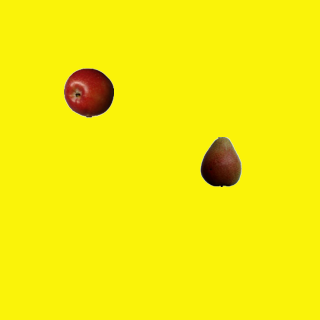Apple Braeburn: (63, 67, 113, 117)
Pear Forelle: (195, 136, 245, 186)
